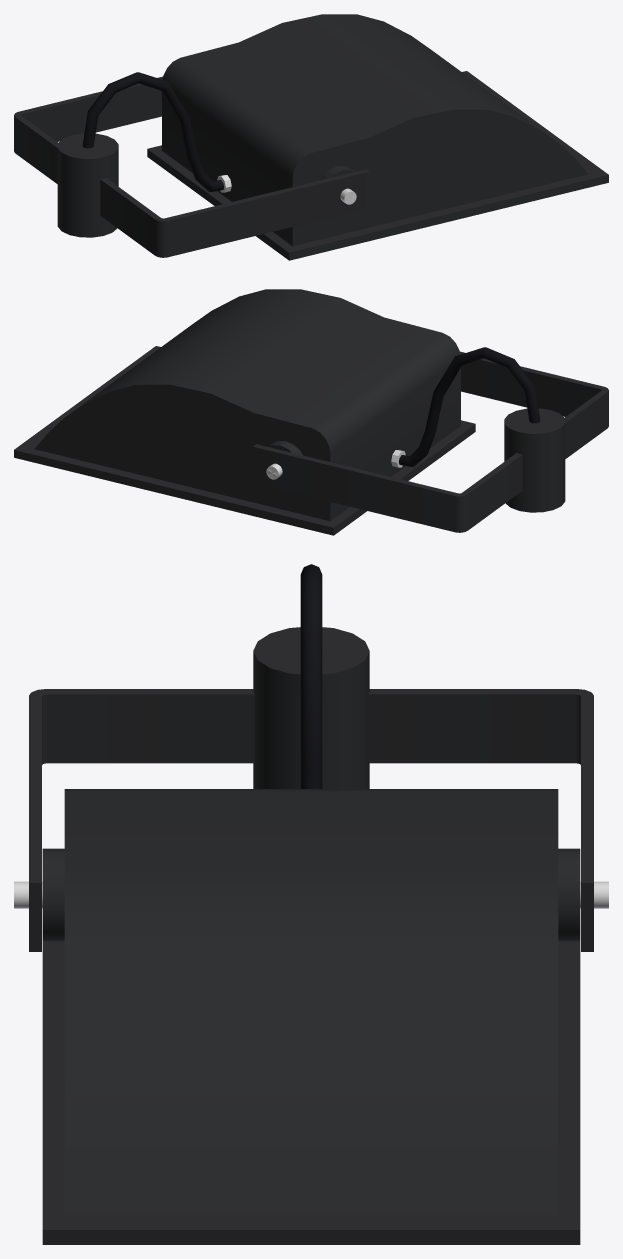
Rendered from Moritz_F_VIII.glb.
3 renders of one model, top to bottom at view 1: azimuth 30°, elevation 25°; view 2: azimuth 150°, elevation 25°; view 3: azimuth 270°, elevation 25°, orthographic. The views are drawn at different scales.
Visible parts, largest first — view 1: Gehaeuse, Halterung, Mastrohr, Kabel.001, Halteringe; view 2: Gehaeuse, Halterung, Mastrohr, Kabel.001, Halteringe; view 3: Gehaeuse, Halterung, Mastrohr, Halteringe, Kabel.001.
Boxes of the visible parts, <box> form: Gehaeuse: <box>147,14,608,260</box>; Halterung: <box>14,76,369,257</box>; Mastrohr: <box>57,133,118,237</box>; Kabel.001: <box>82,72,223,191</box>; Halteringe: <box>320,166,356,214</box>; Gehaeuse: <box>14,289,475,535</box>; Halterung: <box>253,351,608,532</box>; Mastrohr: <box>504,408,565,512</box>; Kabel.001: <box>399,347,540,466</box>; Halteringe: <box>266,441,302,489</box>; Gehaeuse: <box>42,789,580,1244</box>; Halterung: <box>29,689,593,951</box>; Mastrohr: <box>253,627,369,788</box>; Halteringe: <box>14,848,608,941</box>; Kabel.001: <box>300,564,322,788</box>.
Size of the model in its own units: 0.7605 by 0.2377 by 0.4345.
5 materials, 4 textured.
